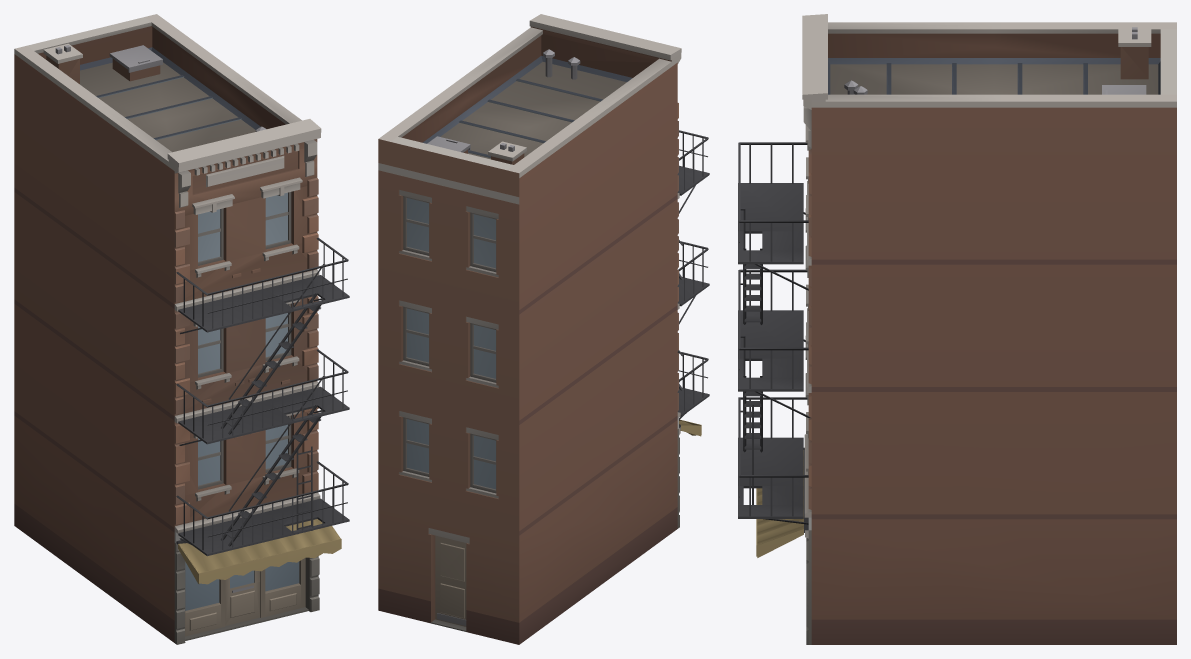
File: walkup.glb
The picture shows the model from 3 angles, left to right: view 1: azimuth 30°, elevation 25°; view 2: azimuth 150°, elevation 25°; view 3: azimuth 270°, elevation 25°; orthographic projection. The views are drawn at different scales.
Parts seen in each view (by area): view 1: walkup; view 2: walkup; view 3: walkup.
Part boxes in pixels (<box>): walkup: <box>14,14,349,644</box>; walkup: <box>378,14,709,644</box>; walkup: <box>738,14,1176,644</box>.
Size of the model in its own units: 4 by 13 by 9.37.
